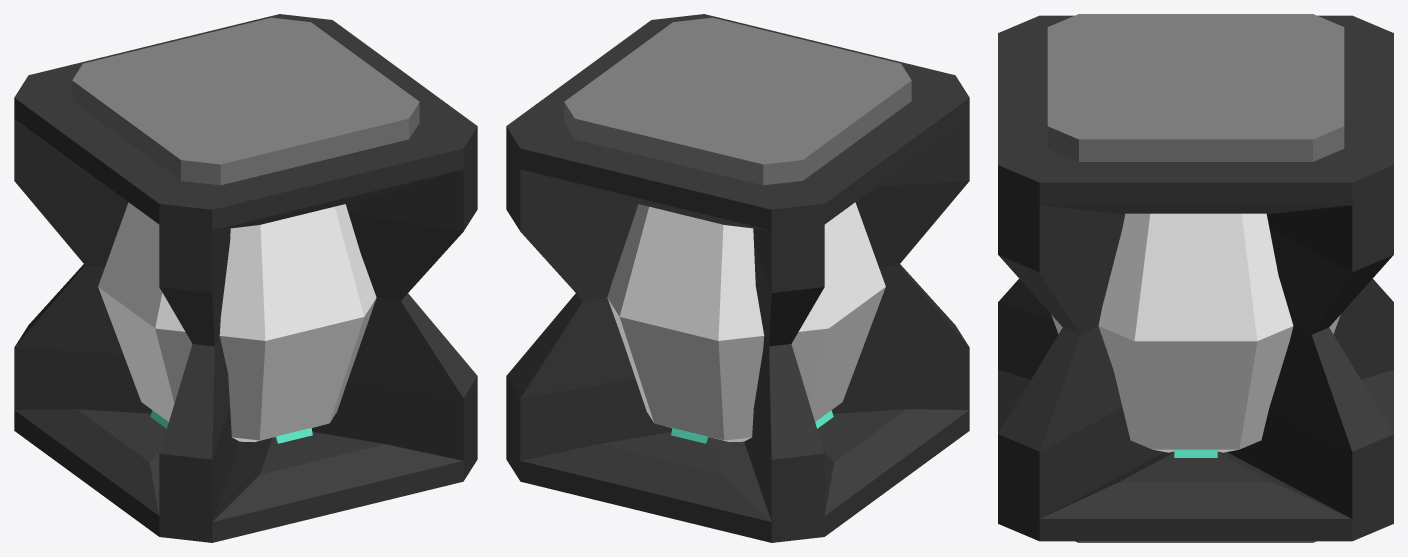
File: Mchip.obj
The picture shows the model from 3 angles, left to right: view 1: azimuth 30°, elevation 25°; view 2: azimuth 150°, elevation 25°; view 3: azimuth 270°, elevation 25°; orthographic projection. The views are drawn at different scales.
Parts seen in each view (by area): view 1: cylinder, sphere, cylinder_selection; view 2: cylinder, sphere, cylinder_selection; view 3: cylinder, cylinder_selection, sphere.
Part boxes in pixels (x1=…): cylinder: x1=14, y1=14, x2=477, y2=542; sphere: x1=98, y1=202, x2=376, y2=443; cylinder_selection: x1=72, y1=17, x2=419, y2=185; cylinder: x1=506, y1=14, x2=969, y2=542; sphere: x1=607, y1=202, x2=885, y2=443; cylinder_selection: x1=564, y1=17, x2=911, y2=185; cylinder: x1=998, y1=15, x2=1393, y2=541; cylinder_selection: x1=1047, y1=14, x2=1344, y2=542; sphere: x1=1051, y1=213, x2=1340, y2=457.
Bounding box in the file's own units: 1 × 1.12 × 1.
